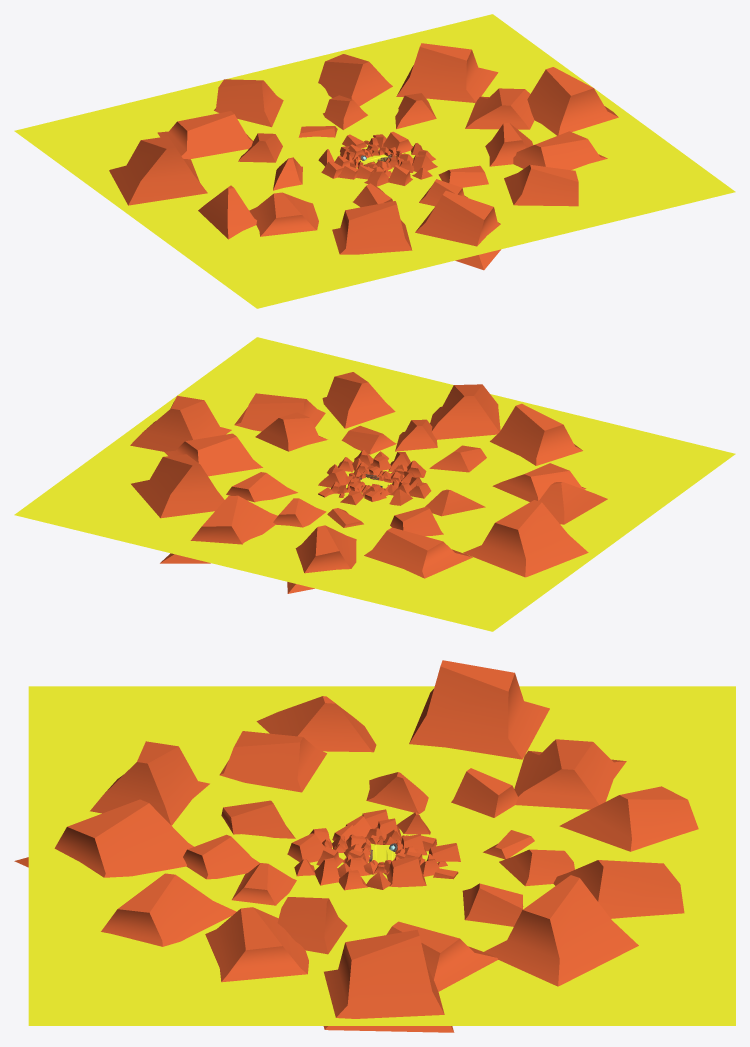
The model's file is Escenario.obj.
3 views of the same model, one above another, from view 1: azimuth 30°, elevation 25°; view 2: azimuth 150°, elevation 25°; view 3: azimuth 270°, elevation 25° (orthographic). The views are drawn at different scales.
Visible parts, largest first — view 1: group1 PisoFondo, object 11; view 2: group1 PisoFondo, object 11; view 3: group1 PisoFondo, object 11.
Part boxes in pixels (<box>): group1 PisoFondo: <box>14,14,735,308</box>; object 11: <box>109,43,618,270</box>; group1 PisoFondo: <box>14,337,735,631</box>; object 11: <box>130,372,607,593</box>; group1 PisoFondo: <box>28,686,735,1025</box>; object 11: <box>14,660,698,1032</box>.
Bounding box in the file's own units: 52961 × 6516 × 47551.
